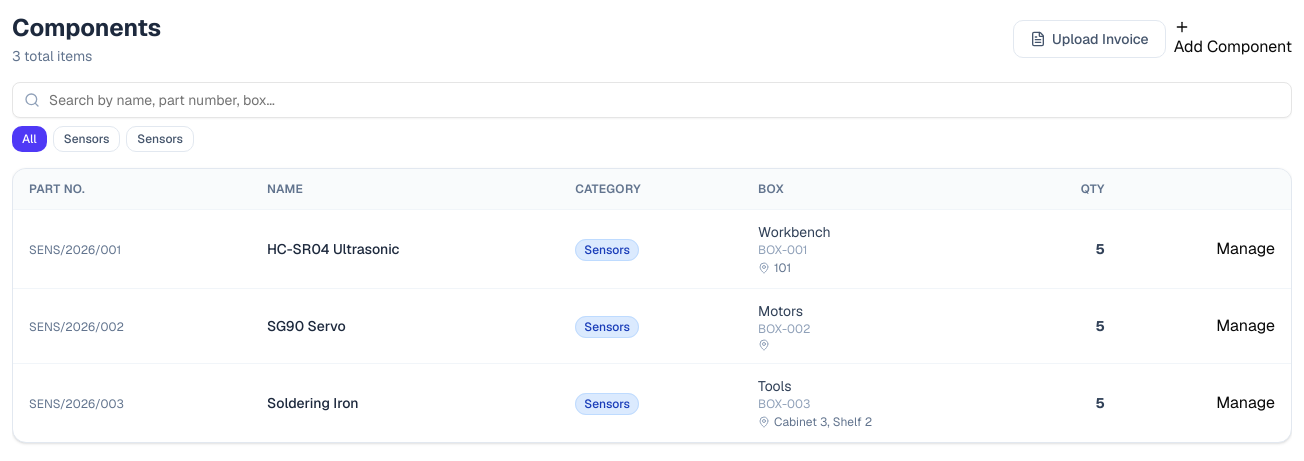
ComponentsClient search does not crash the page › survives a query matching nothing and shows the empty state
Type "zzzzzz" into the field with placeholder "Search by name, part number, box...".
click(652, 100); type("zzzzzz")  # box [12,82,1292,118]
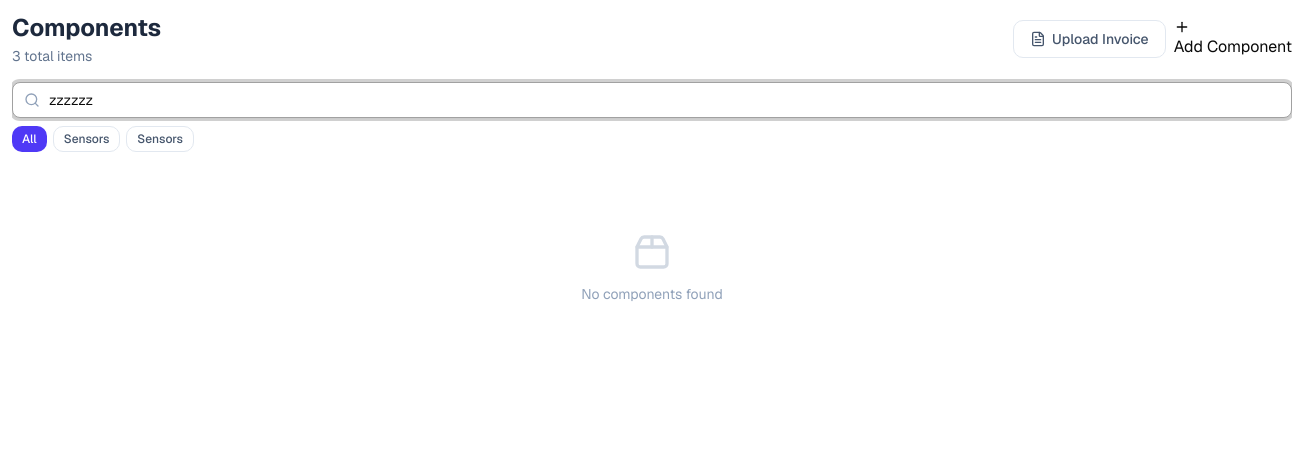
Now the text "No components found" is shown, box [581,285,723,303]
